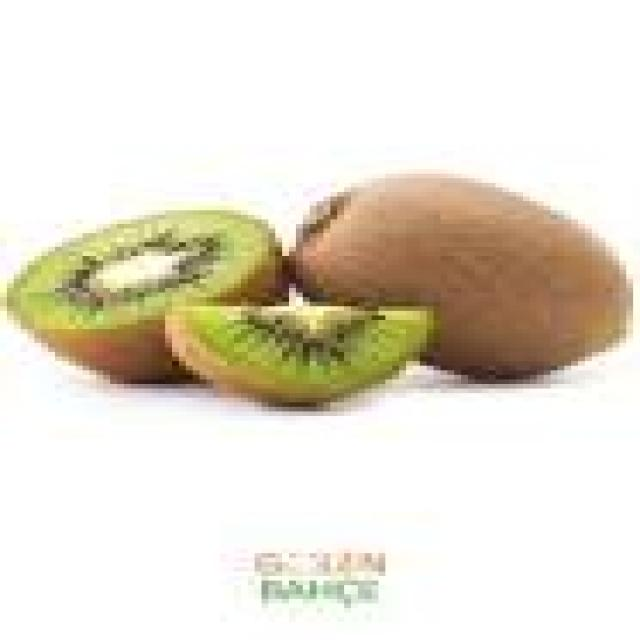kivi: (299, 174, 630, 378), (11, 210, 280, 381), (166, 305, 435, 404)
